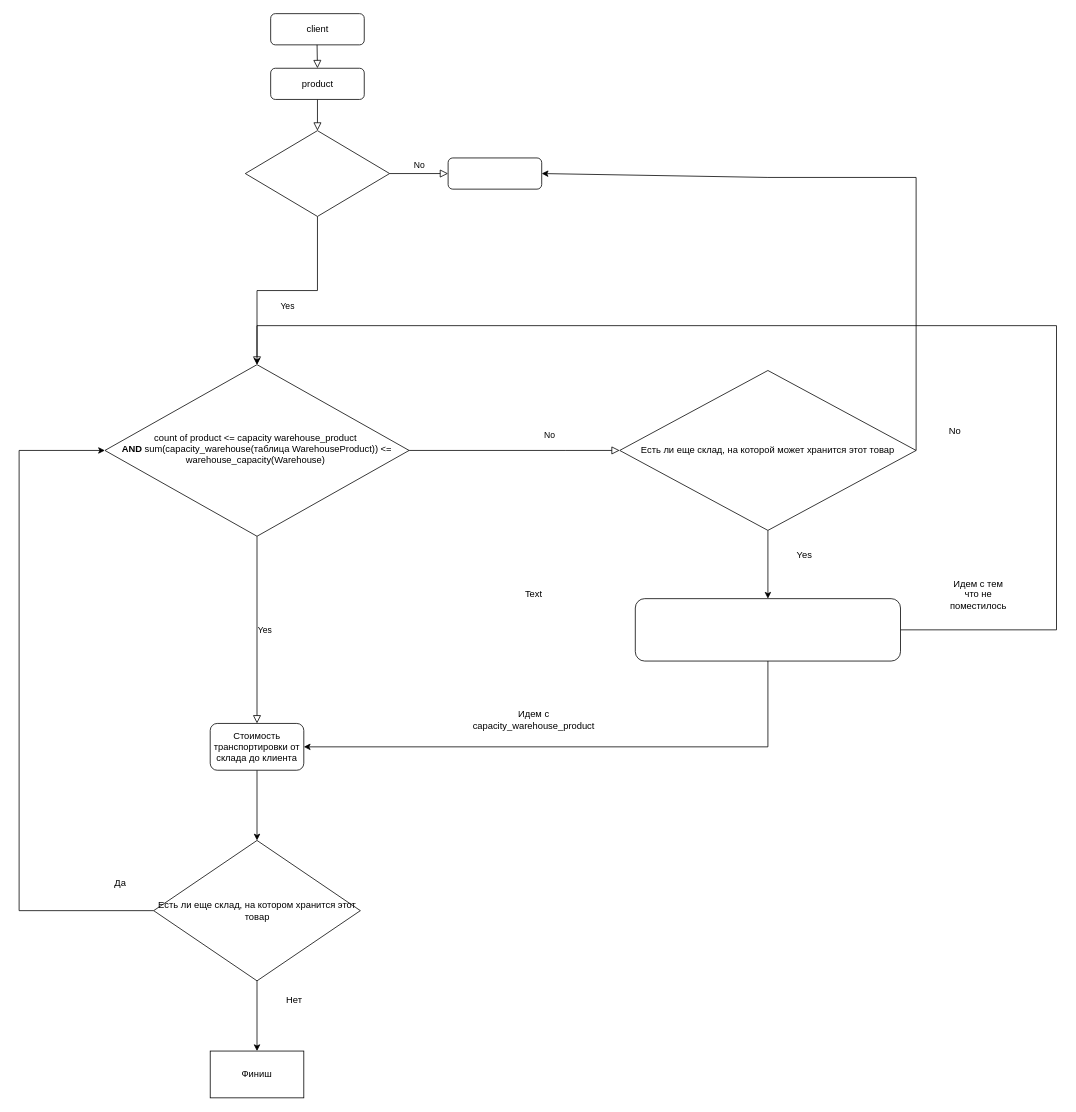
The diagram is 1076 pixels wide and 1112 high, and some of its shapes have lost their labels. Each missing label, with the centre of its shape:
"Есть ли склад на котором хранится это товар" belongs at (317,173).
"Ошибка. не можем сохранить товар" belongs at (494,173).
"то что не поместилось в склад = Count of product - capacity_warehouse_product" belongs at (768,629).
